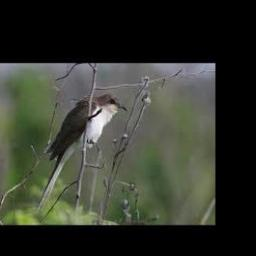Cuckoo: (36, 92, 128, 214)
